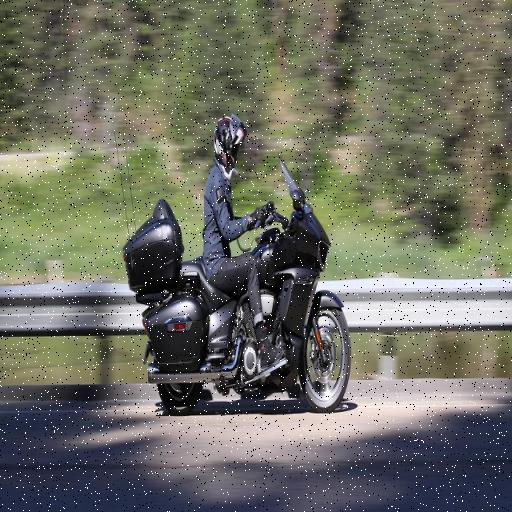Helmet: (206, 104, 248, 173)
Motor: (106, 207, 354, 415)
